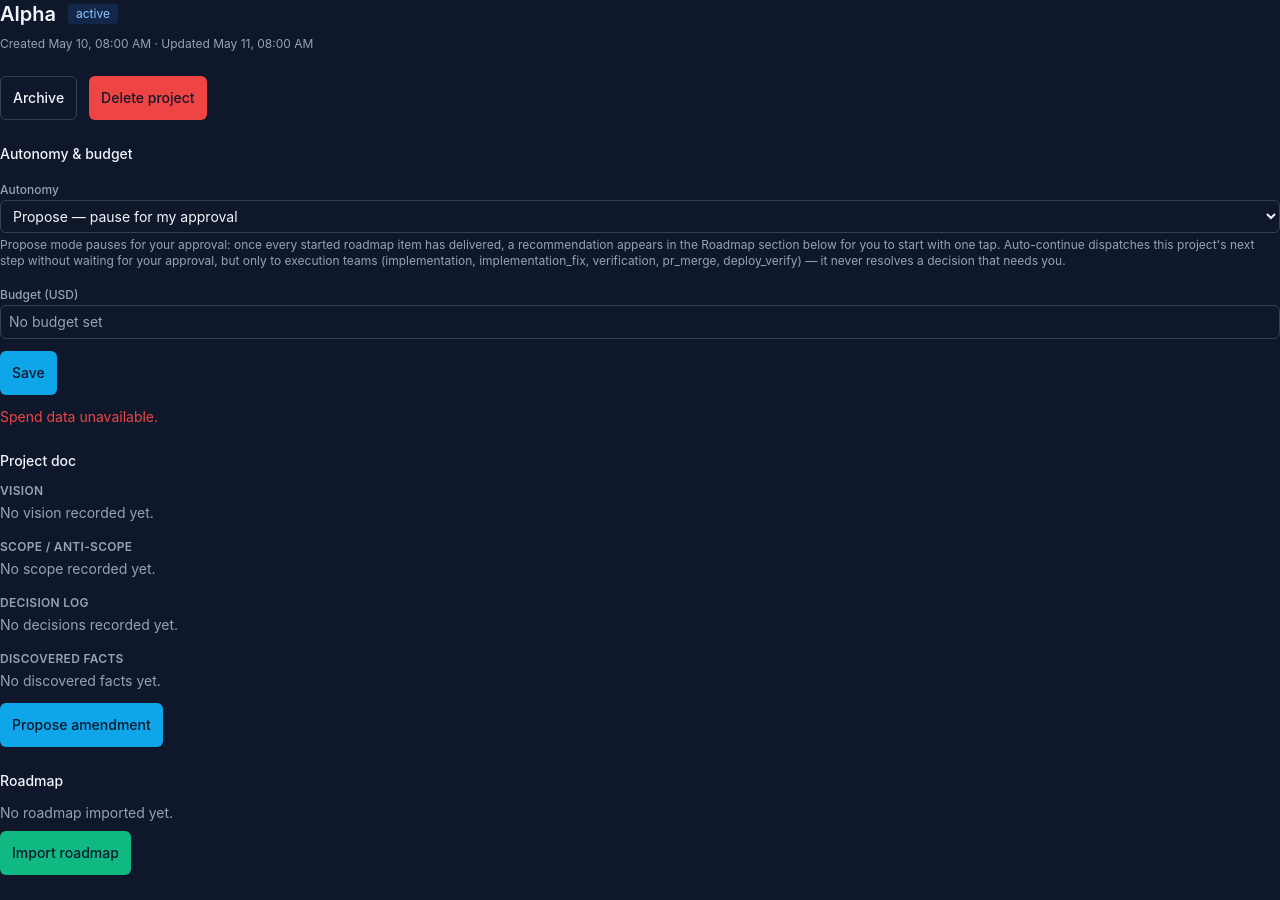
Test: Project › propose-amendment action › disables submit until vision, scope, and a decision entry are all filled
The width and height of the screenshot is (1280, 900).
Click the button with test id "propose-amendment-button".
click(81, 725)  # box [0, 703, 163, 747]
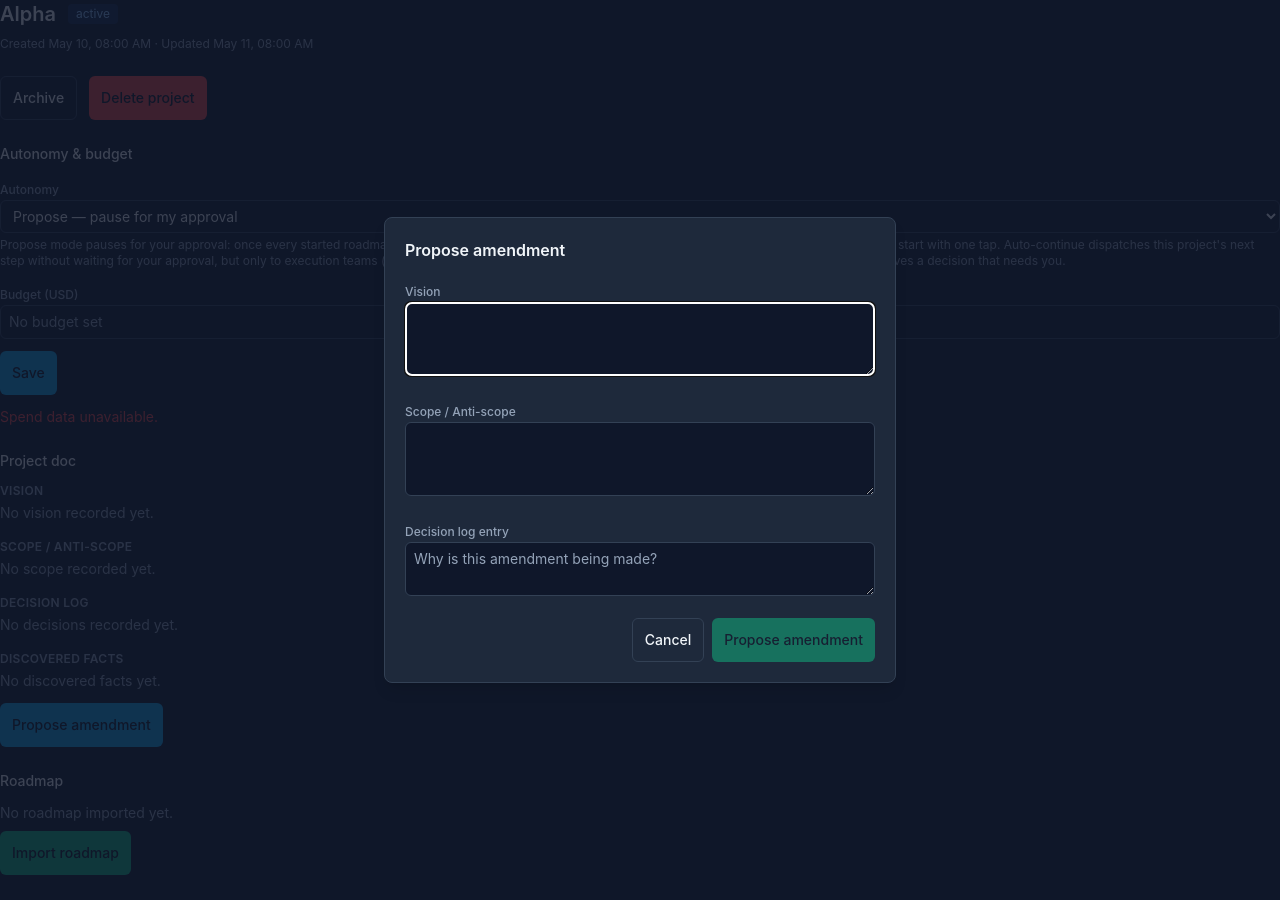
Now the button with test id "propose-amendment-submit" is disabled, box [712, 618, 875, 662]
Type "V" into the text box with test id "amendment-vision".
click(640, 339); type("V")  # box [405, 302, 875, 376]
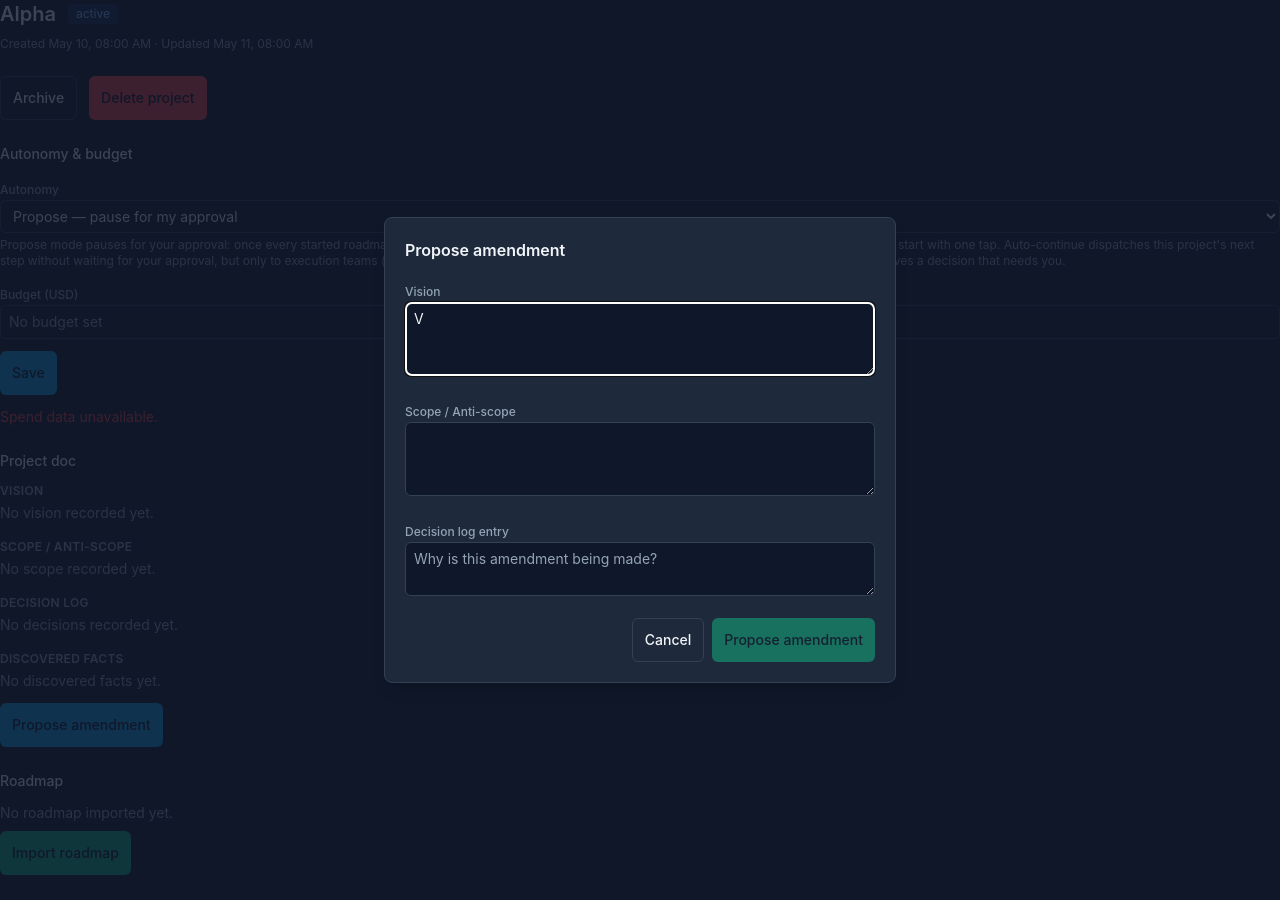
Type "S" into the text box with test id "amendment-scope".
click(640, 459); type("S")  # box [405, 422, 875, 496]
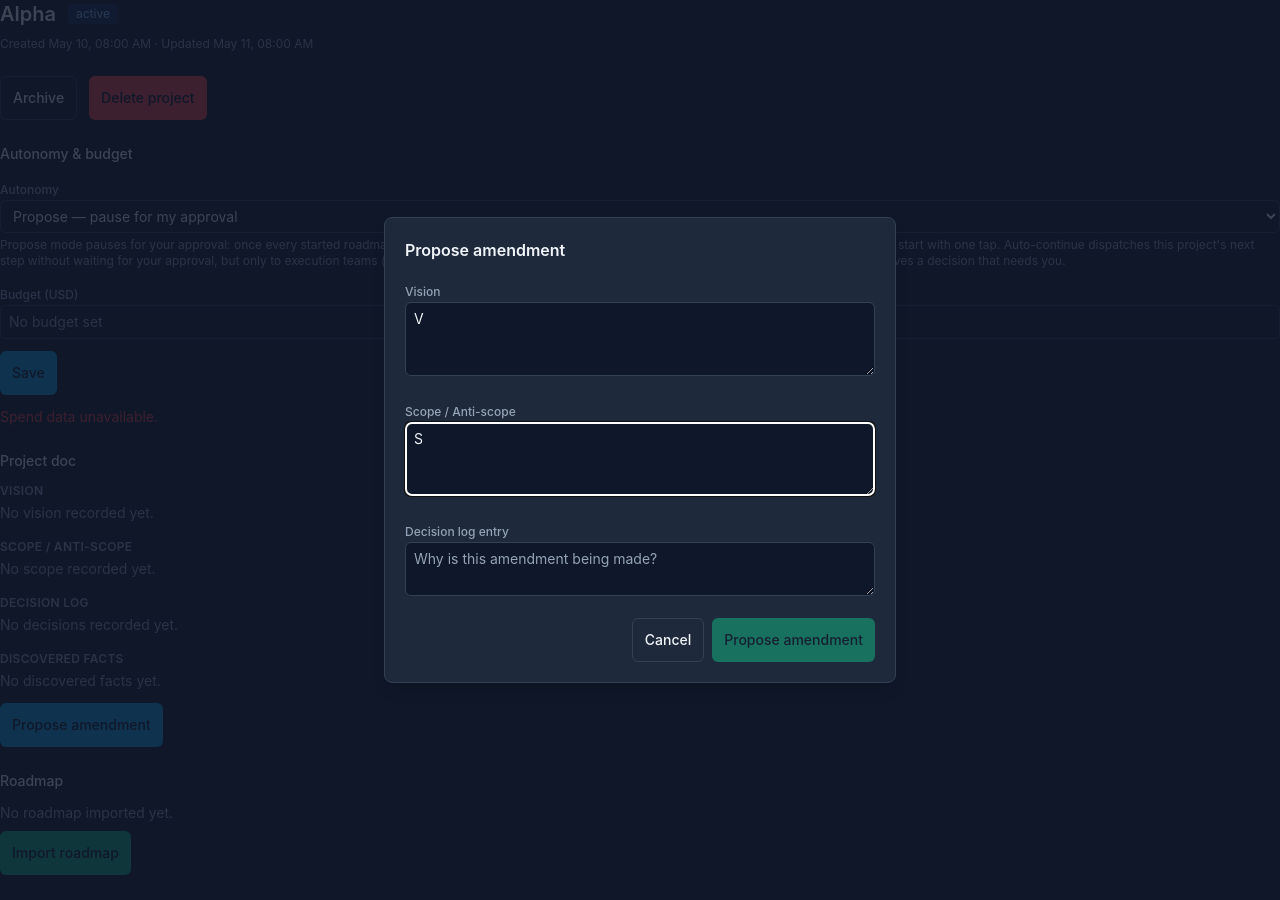
Now the button with test id "propose-amendment-submit" is disabled, box [712, 618, 875, 662]
Type "D" into the text box with test id "amendment-decision-entry".
click(640, 569); type("D")  # box [405, 542, 875, 596]
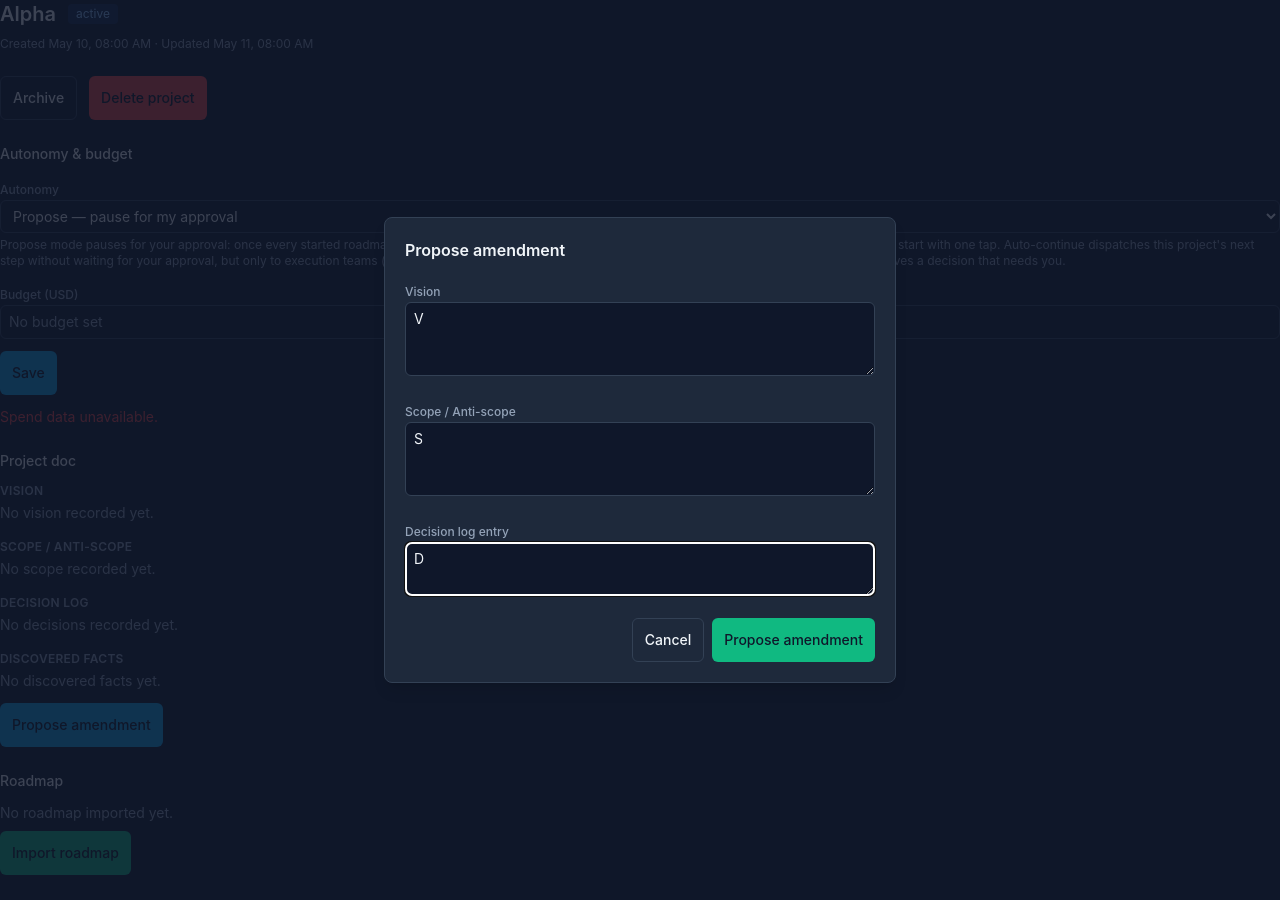
Now the button with test id "propose-amendment-submit" is enabled, box [712, 618, 875, 662]
